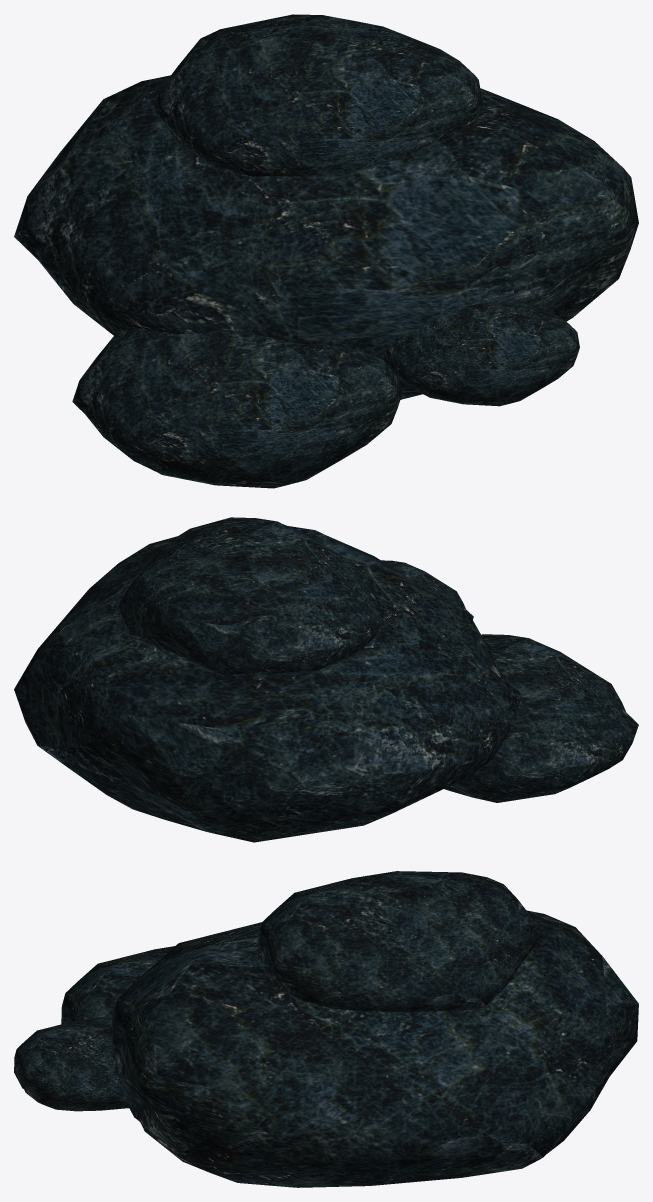
The model's file is Rock Formation 2.fbx.
3 views of the same model, one above another, from view 1: azimuth 30°, elevation 25°; view 2: azimuth 150°, elevation 25°; view 3: azimuth 270°, elevation 25° (orthographic). The views are drawn at different scales.
Visible parts, largest first — view 1: Rocks.002; view 2: Rocks.002; view 3: Rocks.002.
Boxes of the visible parts, x1,y1,x2,y2 form: Rocks.002: (14, 14, 638, 488); Rocks.002: (14, 517, 638, 842); Rocks.002: (14, 871, 638, 1187).
Bounding box in the file's own units: 215 × 104 × 226.
